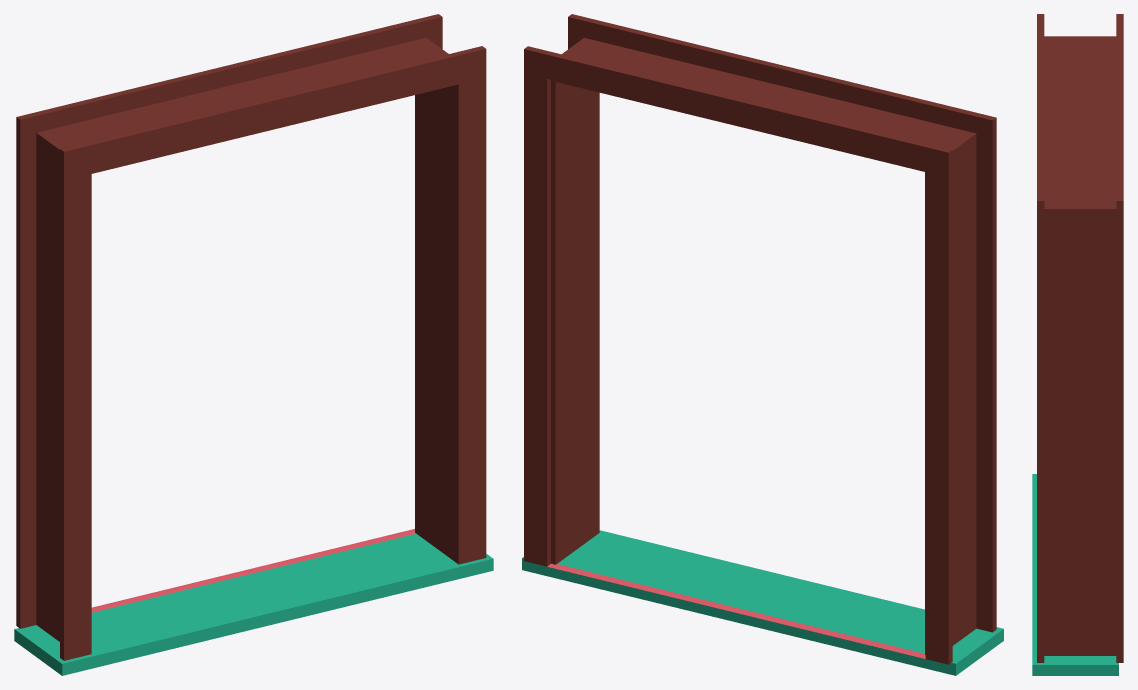
The model's file is generic_double_door_frame.fbx.
3 views of the same model, side by side, from view 1: azimuth 30°, elevation 25°; view 2: azimuth 150°, elevation 25°; view 3: azimuth 270°, elevation 25° (orthographic). The views are drawn at different scales.
Parts seen in each view (by area): view 1: Door; view 2: Door; view 3: Door.
Part boxes in pixels (x1=…): Door: x1=14, y1=14, x2=493, y2=675; Door: x1=522, y1=14, x2=1003, y2=675; Door: x1=1032, y1=14, x2=1123, y2=675.
Size of the model in its own units: 188 by 38 by 217.
